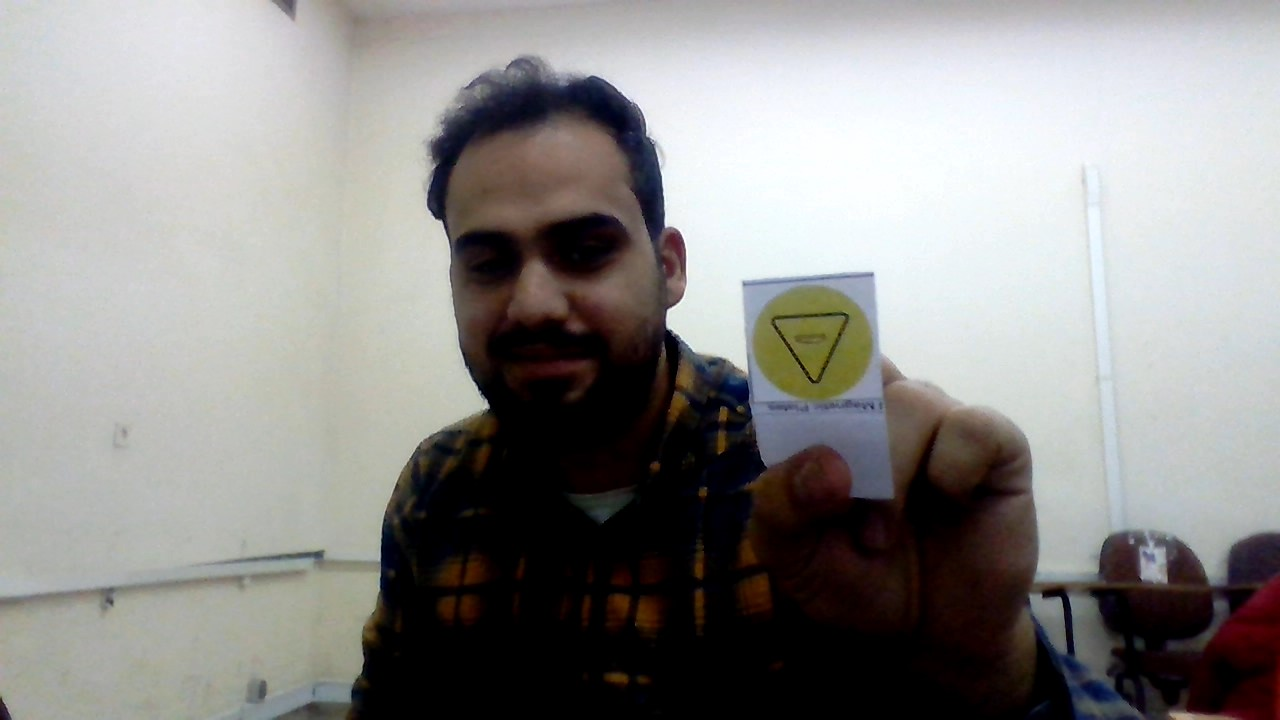hmc: (747, 280, 877, 401)
